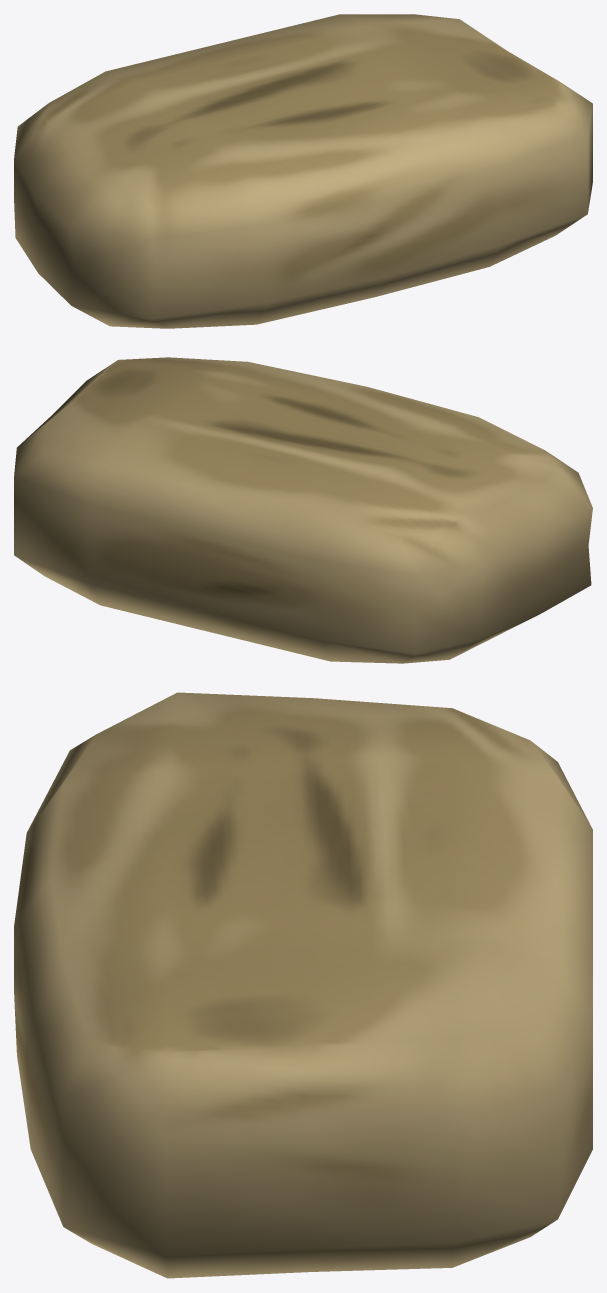
The model's file is Sandbag2.fbx.
3 renders of one model, top to bottom at view 1: azimuth 30°, elevation 25°; view 2: azimuth 150°, elevation 25°; view 3: azimuth 270°, elevation 25°, orthographic. The views are drawn at different scales.
Parts seen in each view (by area): view 1: Sandbag2; view 2: Sandbag2; view 3: Sandbag2.
Boxes of the visible parts, box(x1,y1,x2,y2) form: Sandbag2: box(14, 14, 592, 328); Sandbag2: box(14, 357, 592, 663); Sandbag2: box(14, 692, 592, 1278).
Bounding box in the file's own units: 1.11 × 0.3369 × 0.6535.
